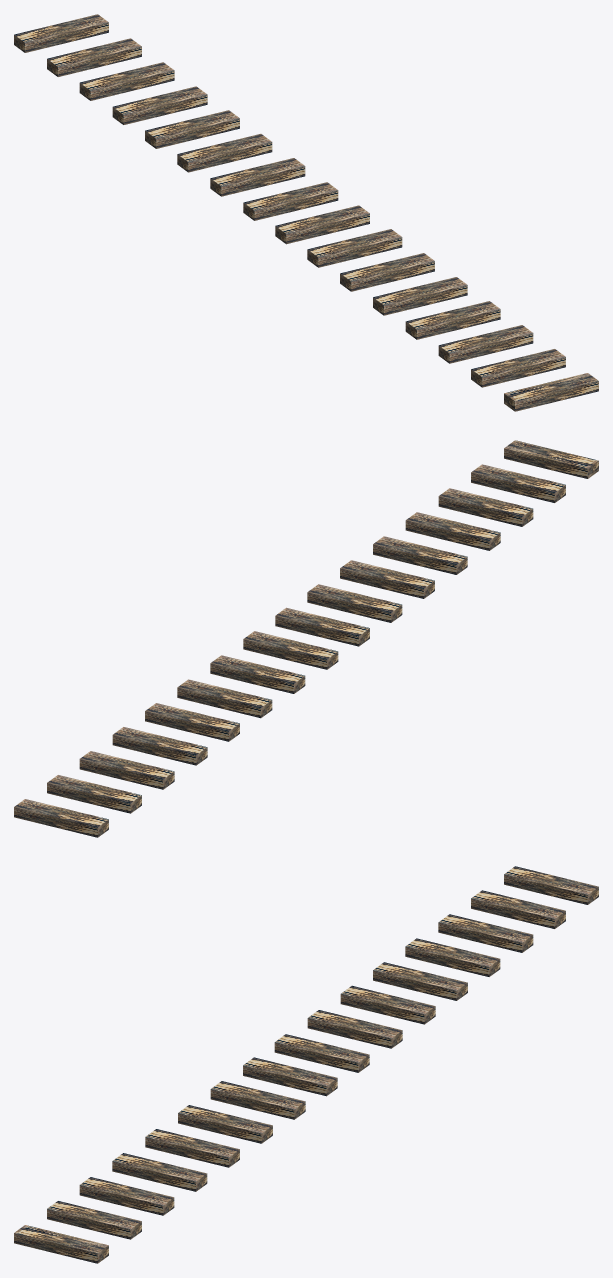
Rendered from Madera_vias.obj.
3 renders of one model, top to bottom at view 1: azimuth 30°, elevation 25°; view 2: azimuth 150°, elevation 25°; view 3: azimuth 330°, elevation 25°, orthographic.
Parts seen in each view (by area): view 1: default_Material_2; view 2: default_Material_2; view 3: default_Material_2.
Boxes of the visible parts, x1,y1,x2,y2 form: default_Material_2: (14, 14, 598, 411); default_Material_2: (14, 440, 598, 837); default_Material_2: (14, 866, 598, 1263).
Size of the model in its own units: 2.97 by 0.3499 by 30.72.
